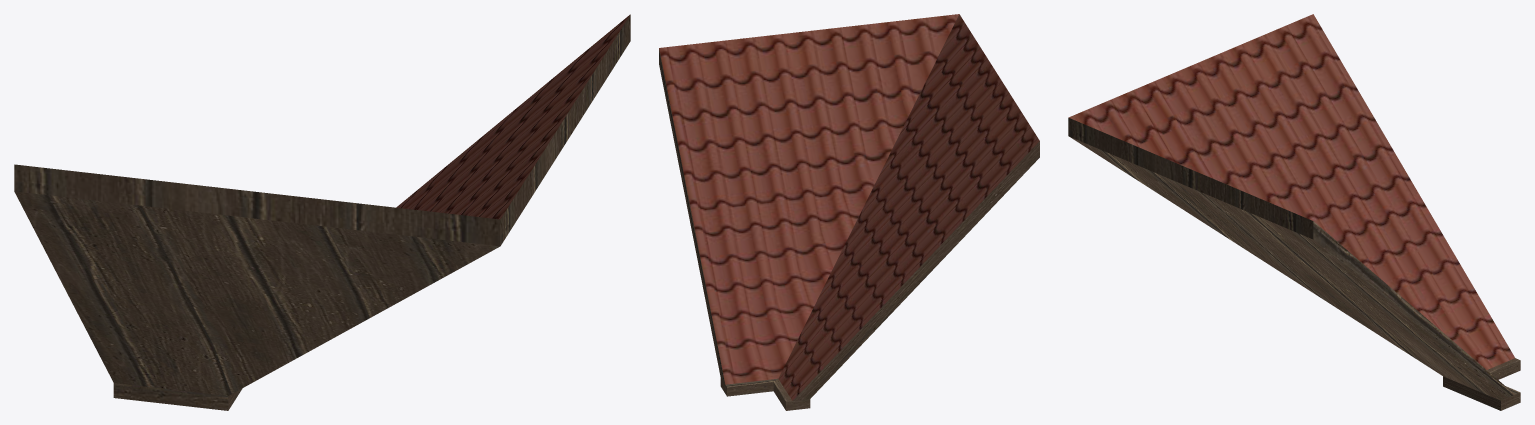
The model's file is ARC1010388.fbx.
3 views of the same model, side by side, from view 1: azimuth 30°, elevation 25°; view 2: azimuth 150°, elevation 25°; view 3: azimuth 270°, elevation 25° (orthographic). The views are drawn at different scales.
Visible parts, largest first — view 1: smARC1010388; view 2: smARC1010388; view 3: smARC1010388.
Part boxes in pixels (x1,y1,x2,y2): smARC1010388: [14, 14, 630, 410]; smARC1010388: [659, 14, 1039, 410]; smARC1010388: [1068, 14, 1520, 410].
Size of the model in its own units: 537 by 325 by 496.
Materials: 1 (1 with a texture image).
